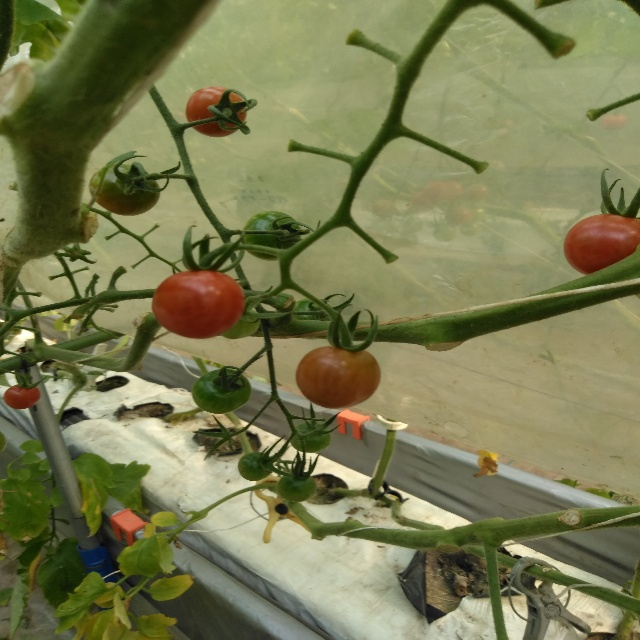l_fully_ripened: (152, 271, 247, 340), (563, 214, 640, 274), (3, 383, 41, 410)
l_green: (88, 162, 159, 217), (240, 210, 302, 261), (192, 369, 252, 415), (288, 421, 331, 453), (221, 306, 260, 340), (276, 471, 318, 502), (238, 452, 274, 481), (293, 298, 337, 321)
l_half_ripened: (294, 345, 382, 409), (185, 86, 247, 138)
